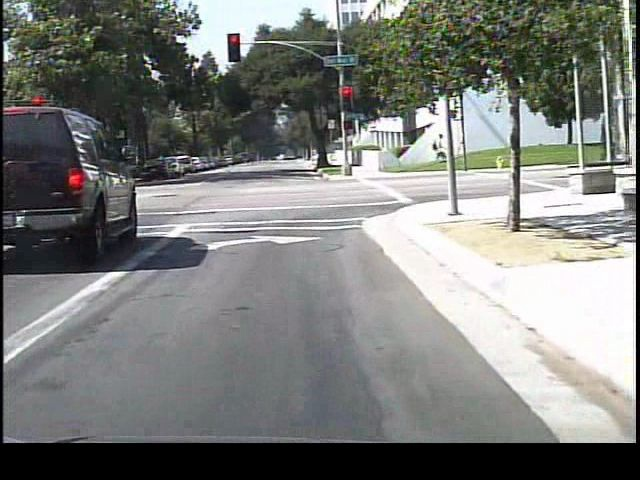person: (427, 127, 447, 159)
